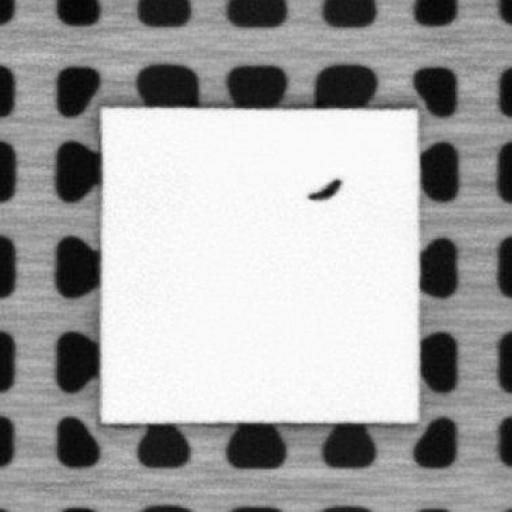DIE_INK: (305, 177, 341, 203)
